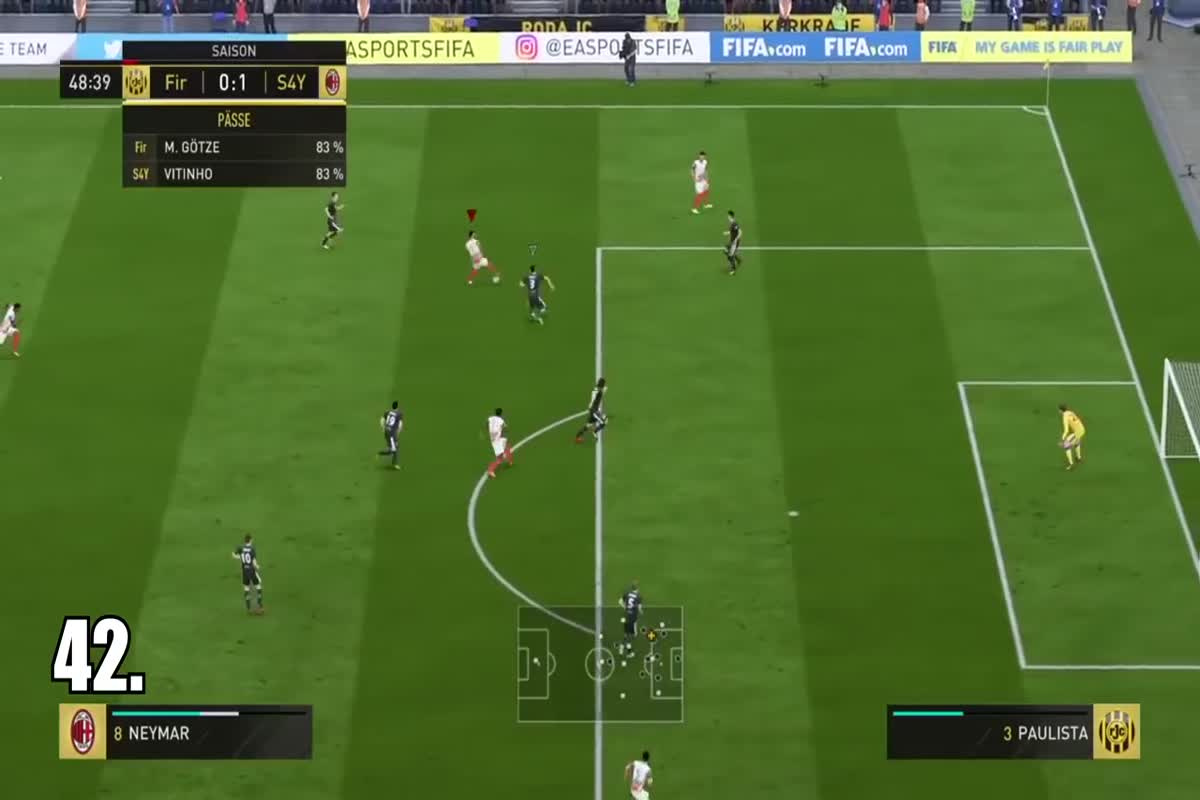ball: (485, 271, 509, 292)
